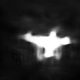plane: (15, 26, 77, 62)
